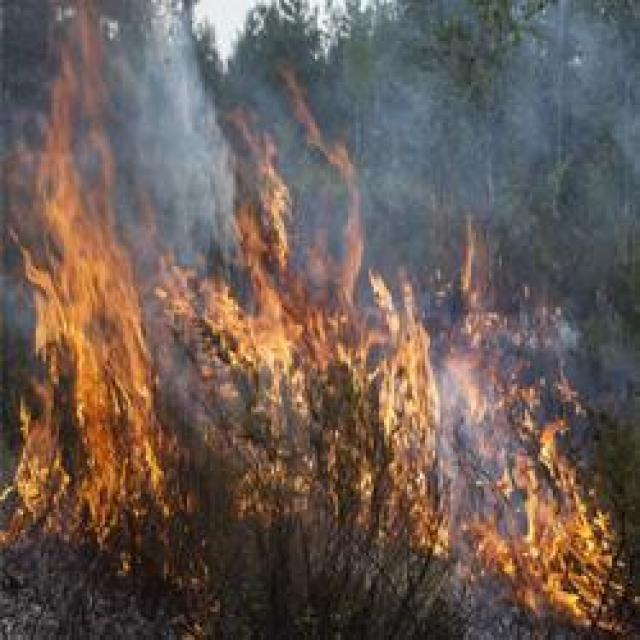Fire: (1, 165, 629, 591), (396, 244, 640, 640)
